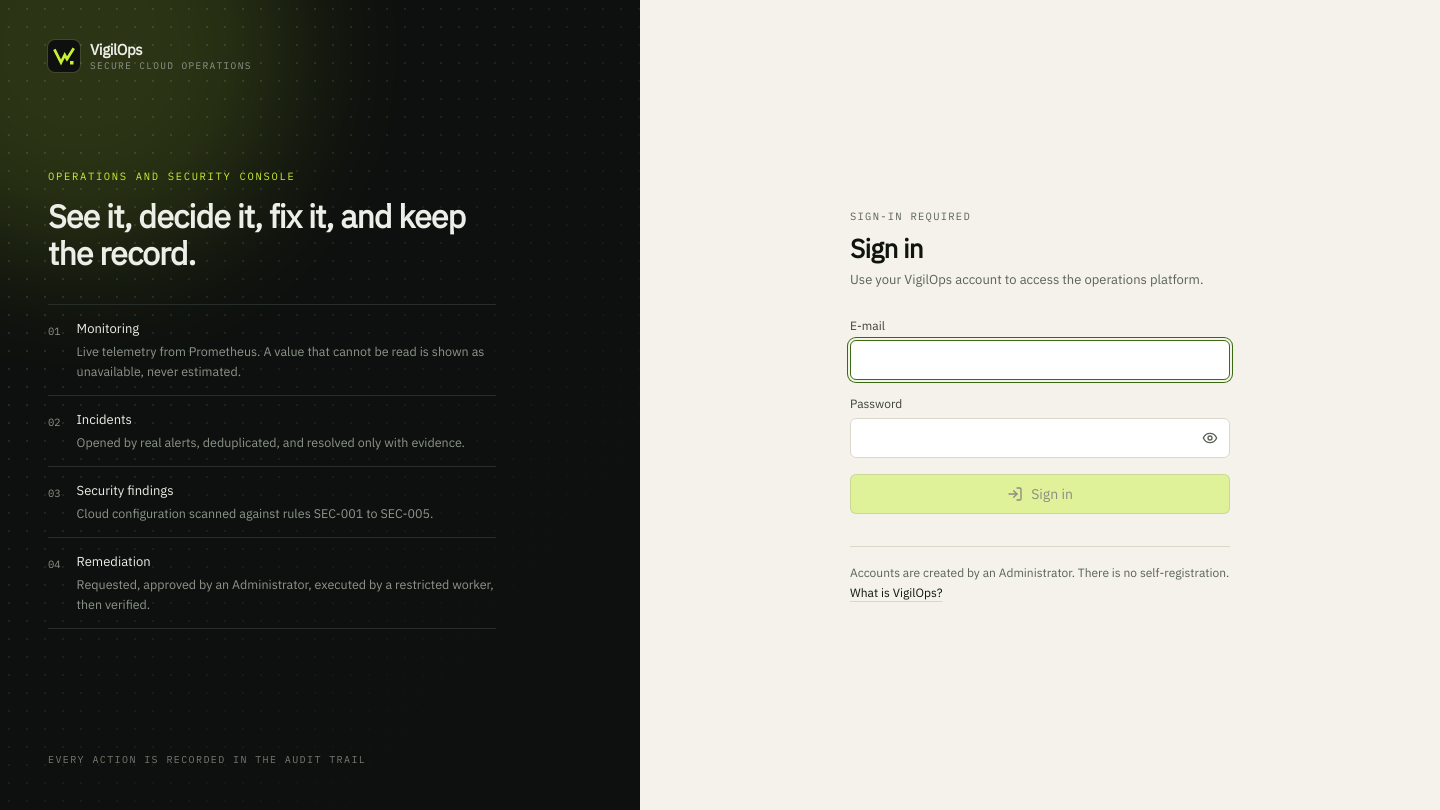
it: authentication flow › shows the backend error on failed sign-in and does not fall back to any account
Type "someone@test.local" into the field labelled "E-mail".
click(1040, 360); type("someone@test.local")  # box top-left (850, 340), bottom-right (1230, 380)
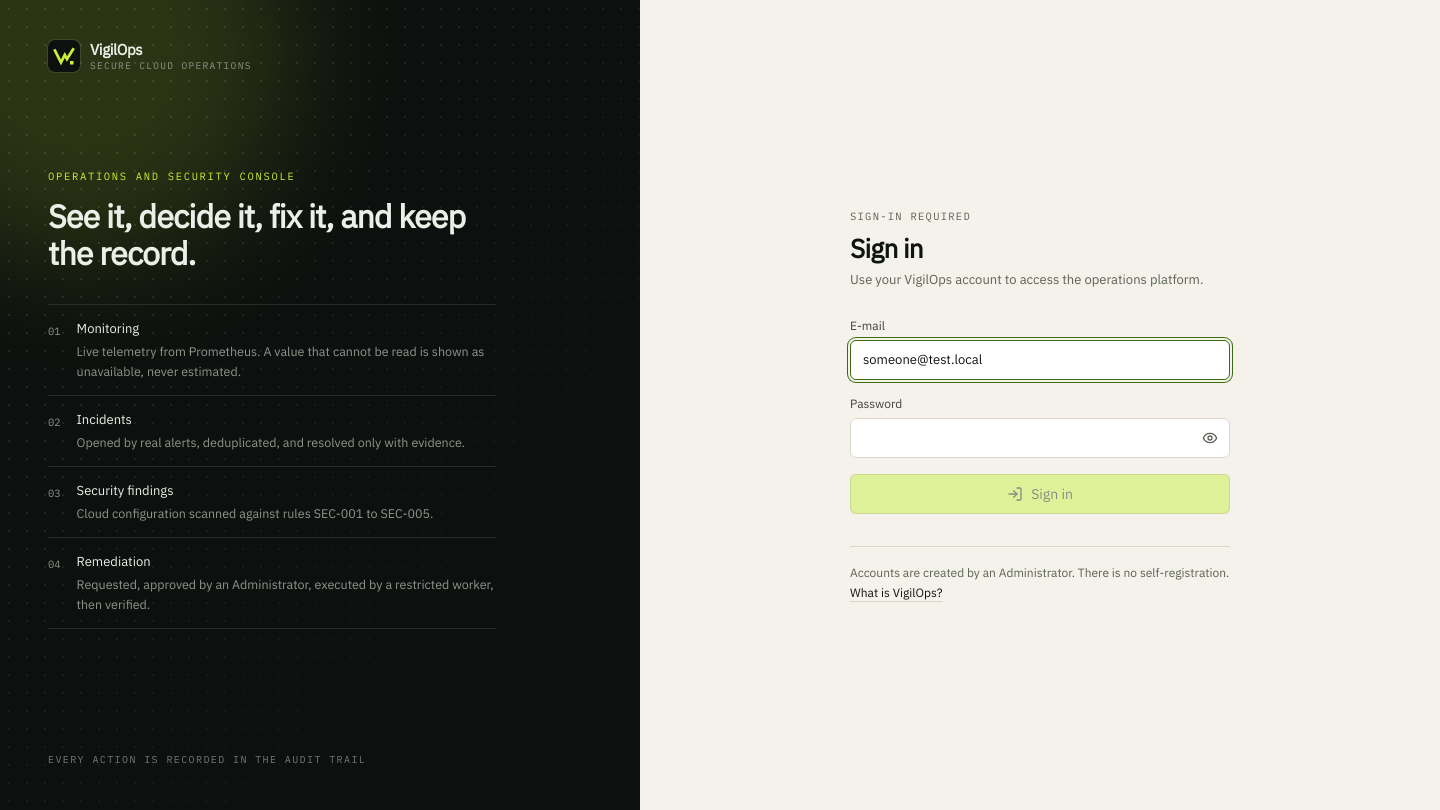
Type "wrong-password" into the password field labelled "Password".
click(1040, 438); type("wrong-password")  # box top-left (850, 418), bottom-right (1230, 458)
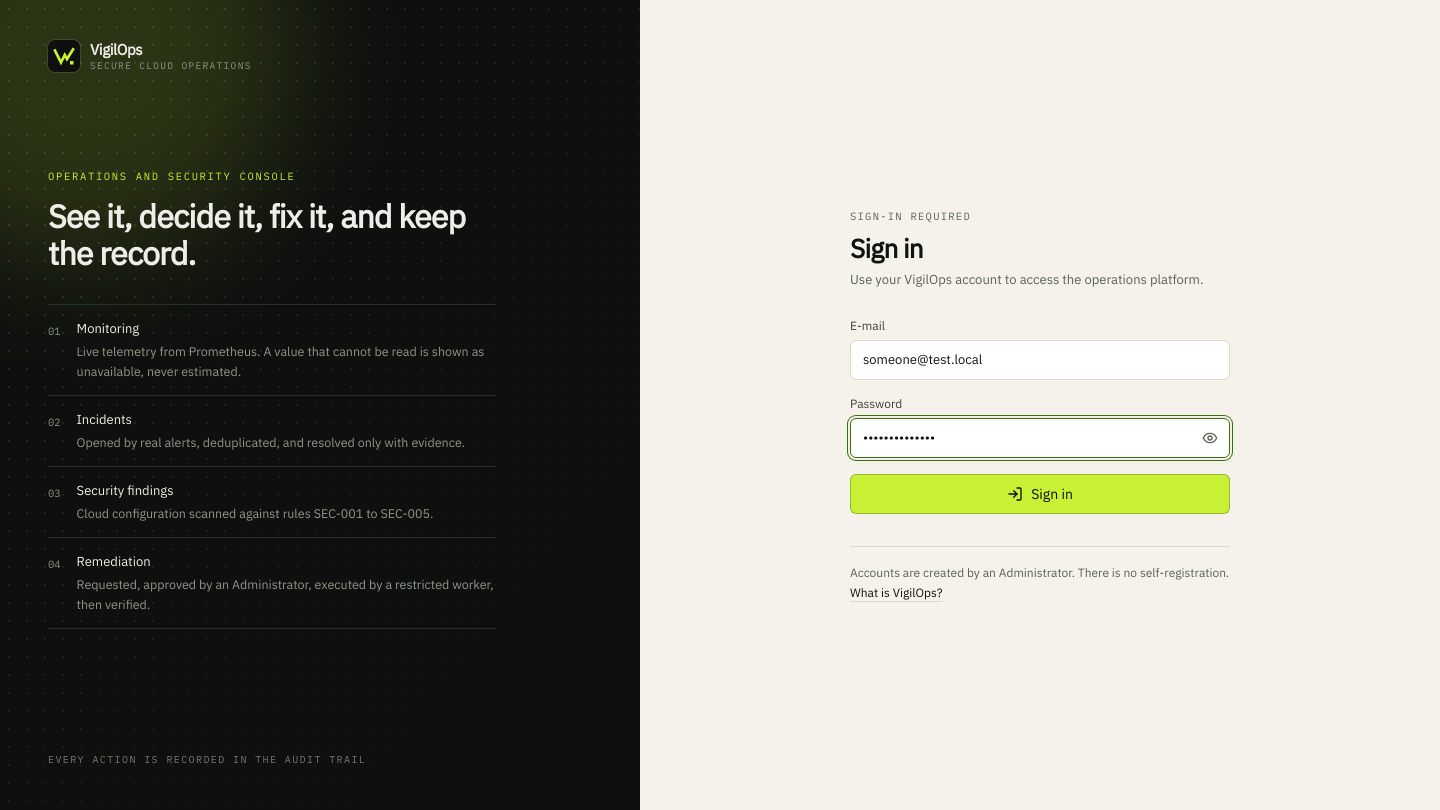
Click the button "Sign in".
click(1040, 494)  # box top-left (850, 474), bottom-right (1230, 514)
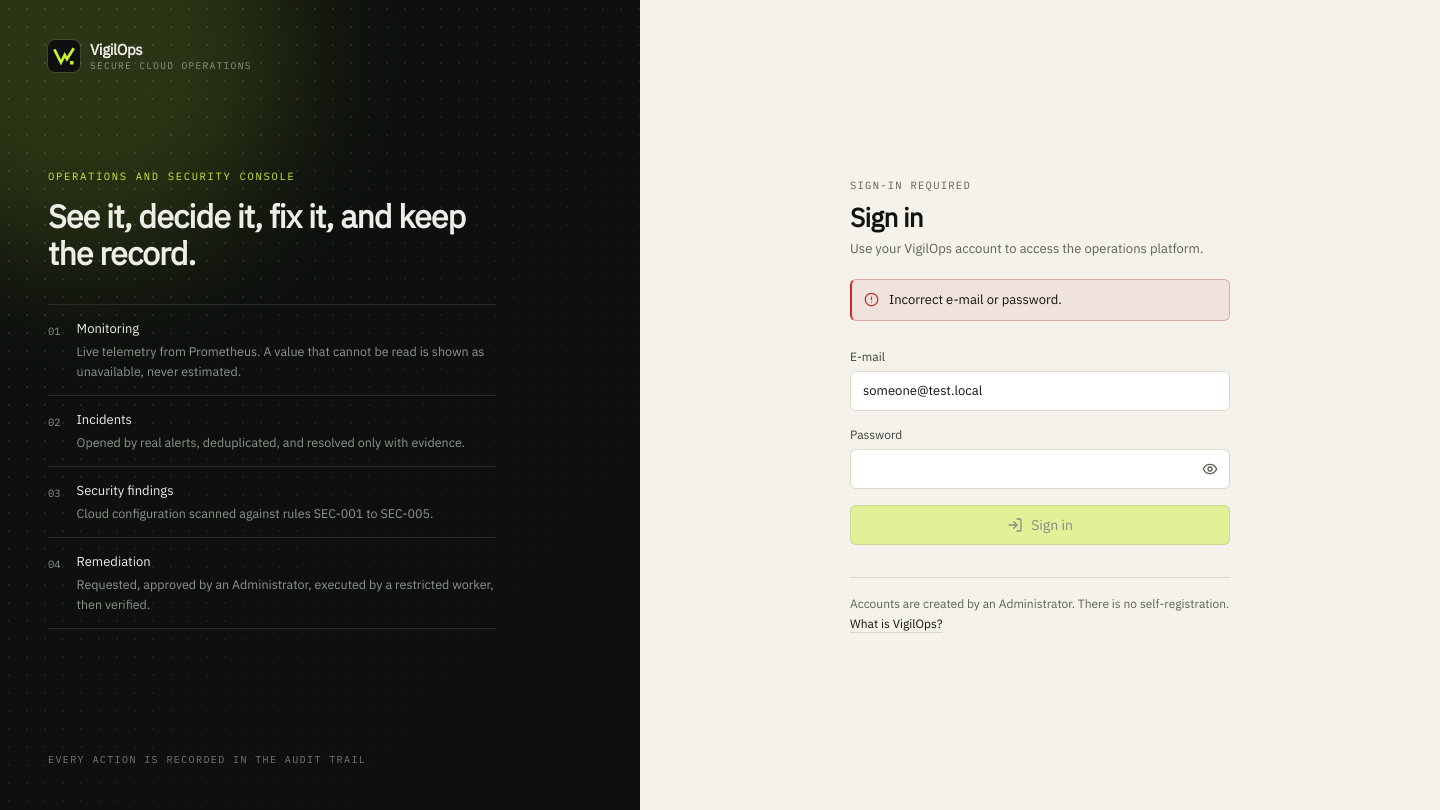
Expected: the heading "Sign in" is shown, top-left (850, 200), bottom-right (923, 234)
Expected: the message reads "Incorrect e-mail or password.", top-left (889, 290), bottom-right (1062, 308)
